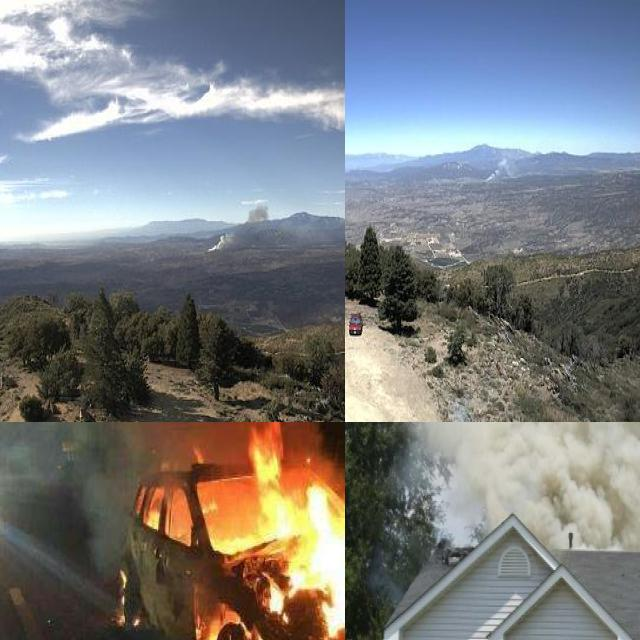fire: (173, 422, 345, 640)
smoke: (388, 422, 640, 555), (0, 422, 250, 529), (201, 198, 273, 253), (479, 148, 521, 180)
